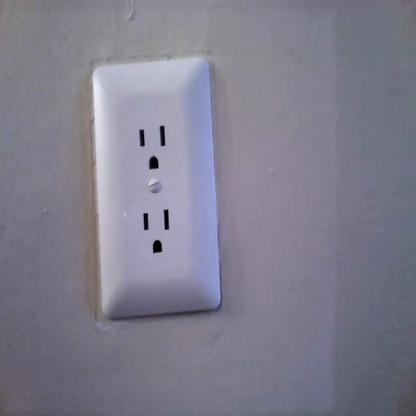OUTLET: (88, 60, 224, 321)
